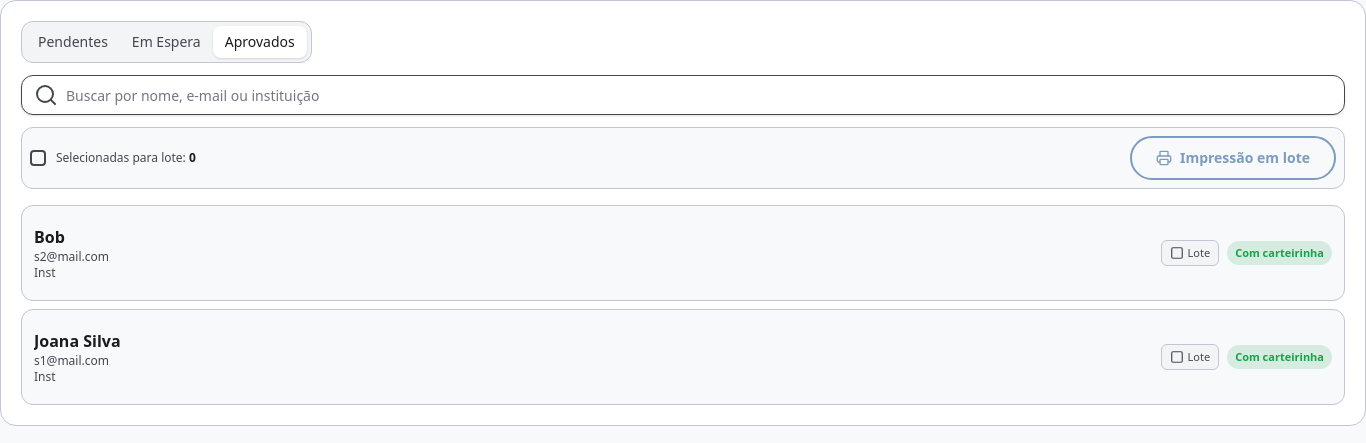
Test: StudentListPanel — busca por nome social e nome civil › encontra aluno digitando o nome social, mesmo aluno some ao filtrar por nome civil de outro aluno
Type "Joana" into the field with placeholder "Buscar por nome, e-mail ou instituição" at (687, 95), box [30,76,1344,114]
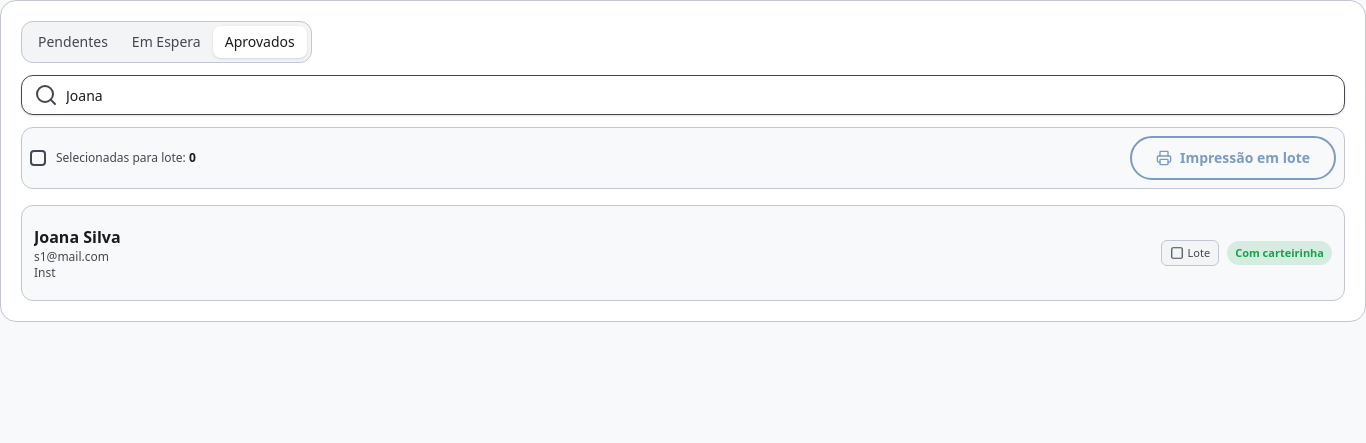
Expected: the text "Joana Silva" is shown, [34,226,120,248]
Expected: the button "Bob" is gone
